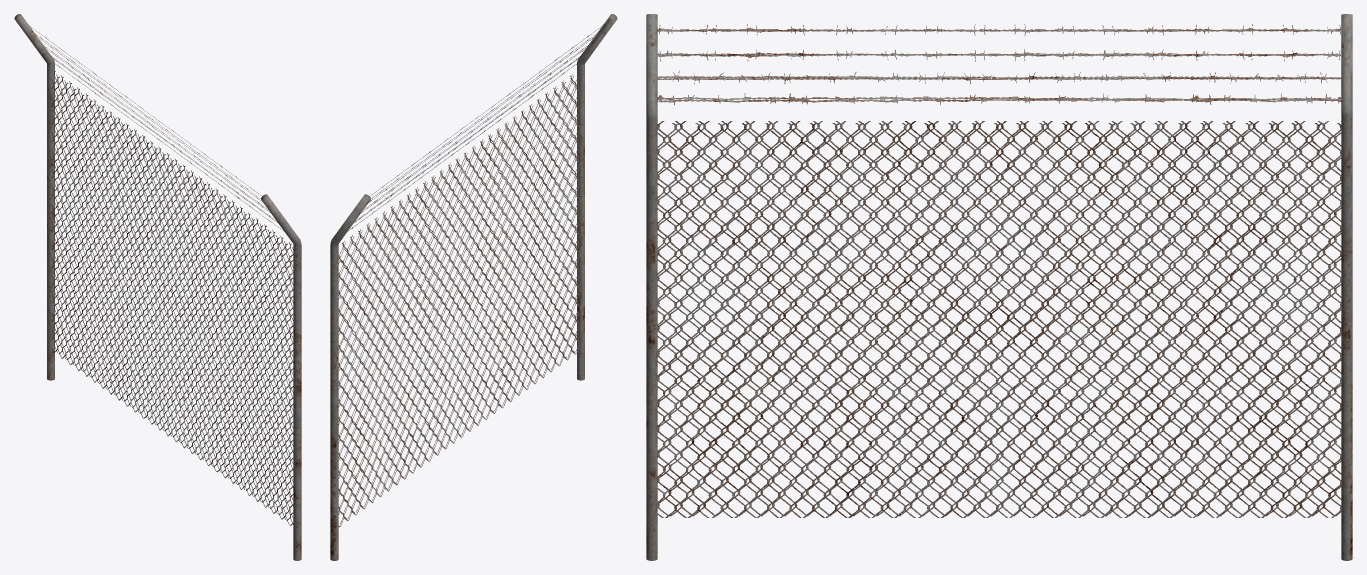
The model's file is Fence.fbx.
3 renders of one model, left to right at view 1: azimuth 30°, elevation 25°; view 2: azimuth 150°, elevation 25°; view 3: azimuth 270°, elevation 25°, orthographic. The views are drawn at different scales.
Parts seen in each view (by area): view 1: Cube.002; view 2: Cube.002; view 3: Cube.002.
Part boxes in pixels (left/top/right/bottom): Cube.002: left=14, top=14, right=301, bottom=560; Cube.002: left=330, top=14, right=617, bottom=560; Cube.002: left=646, top=14, right=1352, bottom=560.
Size of the model in its own units: 0.7653 by 6.9 by 8.43.
